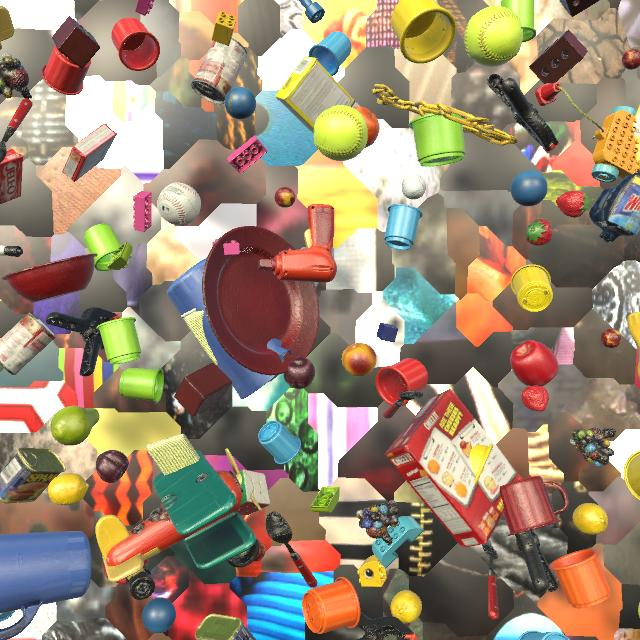ycb_003_cracker_box: (384, 389, 523, 547)
ycb_004_sugar_box: (275, 56, 361, 133), (633, 105, 640, 167)
ycb_005_tomato_soup_can: (191, 38, 247, 104), (0, 312, 55, 375)
ycb_006_mustard_bottle: (627, 312, 640, 380)
ycb_009_gelatin_box: (62, 123, 117, 182), (0, 149, 23, 204)
ycb_010_potted_meat_can: (0, 447, 66, 503), (195, 614, 256, 640)
ycb_012_strawberry: (556, 191, 590, 218), (526, 219, 553, 246), (521, 386, 549, 412)
ycb_013_apple: (510, 340, 559, 386), (103, 559, 149, 584)
ycb_014_lemon: (47, 473, 89, 505), (573, 503, 608, 535), (391, 590, 422, 623)
ycb_015_peach: (342, 343, 377, 377)
ycb_016_pear: (50, 406, 99, 446)
ycb_017_orange: (353, 107, 379, 148)
ycb_018_plum: (96, 450, 129, 483), (283, 357, 315, 389)
